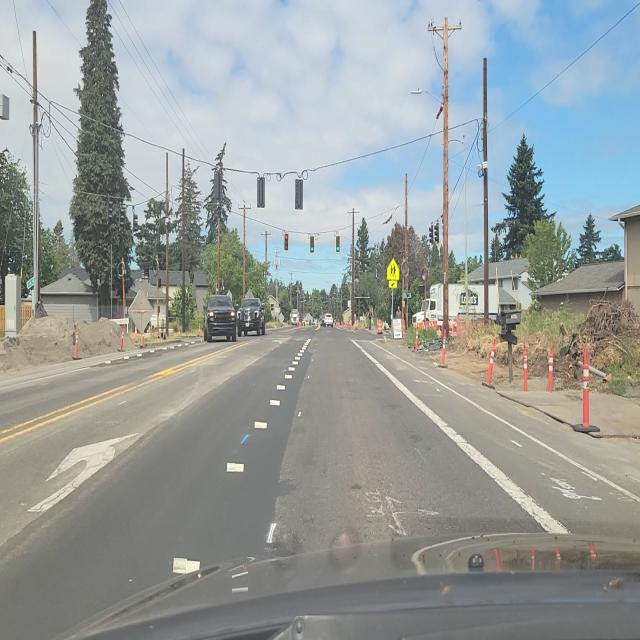car: (202, 295, 238, 342), (237, 297, 266, 337), (321, 313, 333, 328), (290, 310, 300, 327)
crosswalk-sign: (386, 258, 399, 286)
delineator: (581, 348, 591, 429), (485, 338, 497, 387), (547, 343, 554, 394), (522, 343, 528, 393), (440, 330, 448, 367), (74, 325, 79, 359), (119, 325, 125, 351), (415, 322, 419, 352), (141, 328, 145, 349), (402, 318, 406, 336), (134, 326, 138, 342), (122, 324, 126, 336), (198, 322, 201, 337)
